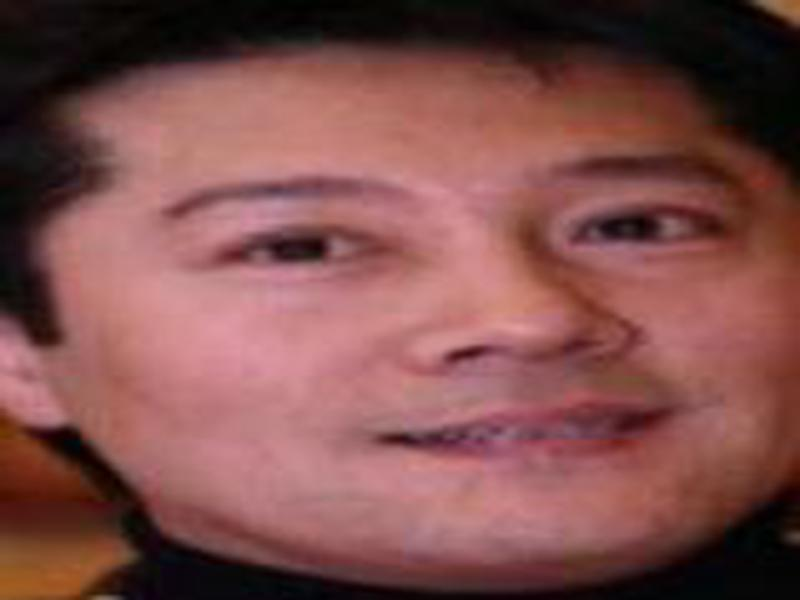without_mask: (63, 53, 800, 580)
